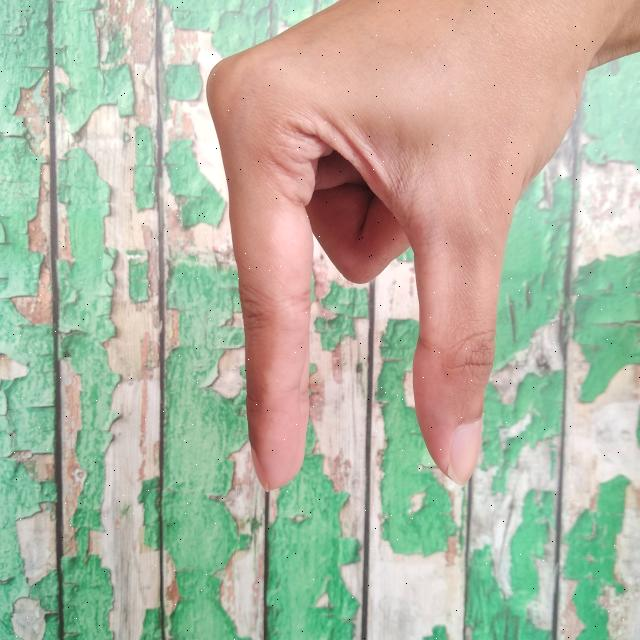Q: (196, 0, 639, 500)
